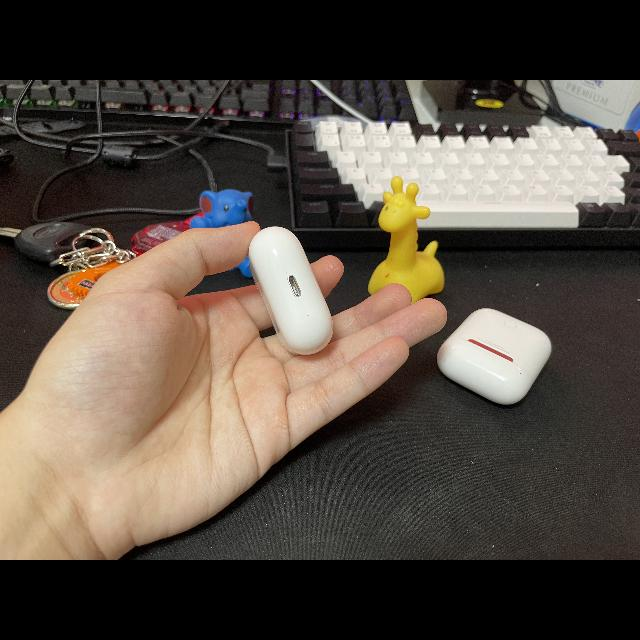airpod2: (425, 300, 561, 410)
airpod3: (236, 216, 340, 356)
